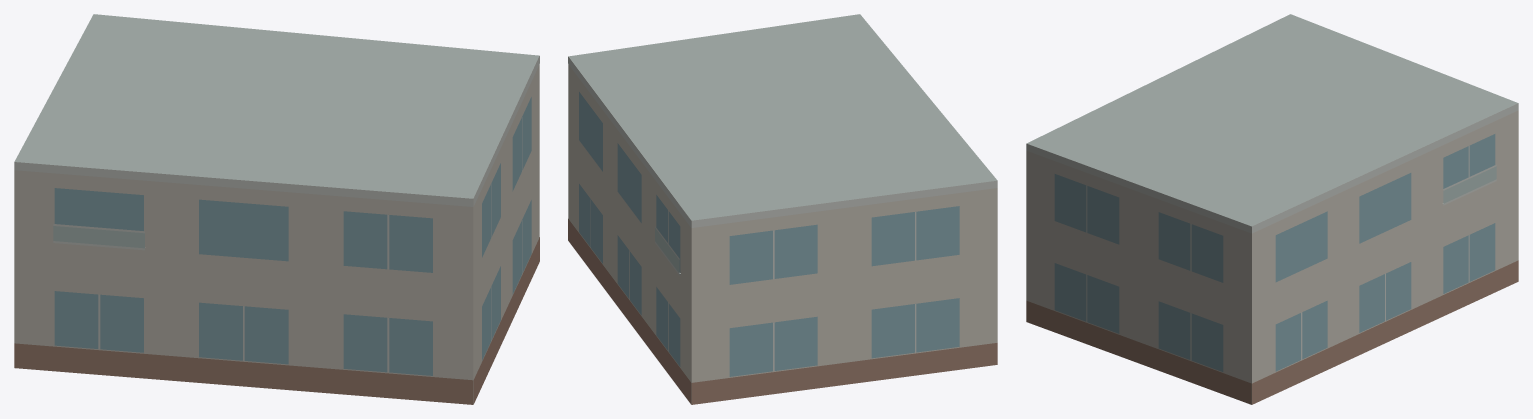
Rendered from survey-upis-32670180.glb.
3 views of the same model, side by side, from view 1: azimuth 30°, elevation 25°; view 2: azimuth 150°, elevation 25°; view 3: azimuth 270°, elevation 25° (orthographic). The views are drawn at different scales.
Parts seen in each view (by area): view 1: survey-upis-32670180.tmp; view 2: survey-upis-32670180.tmp; view 3: survey-upis-32670180.tmp.
Part boxes in pixels (bbox=[...]): survey-upis-32670180.tmp: bbox=[14, 14, 539, 404]; survey-upis-32670180.tmp: bbox=[568, 14, 997, 404]; survey-upis-32670180.tmp: bbox=[1026, 14, 1518, 404].
Size of the model in its own units: 15.59 by 6.1 by 15.26.
